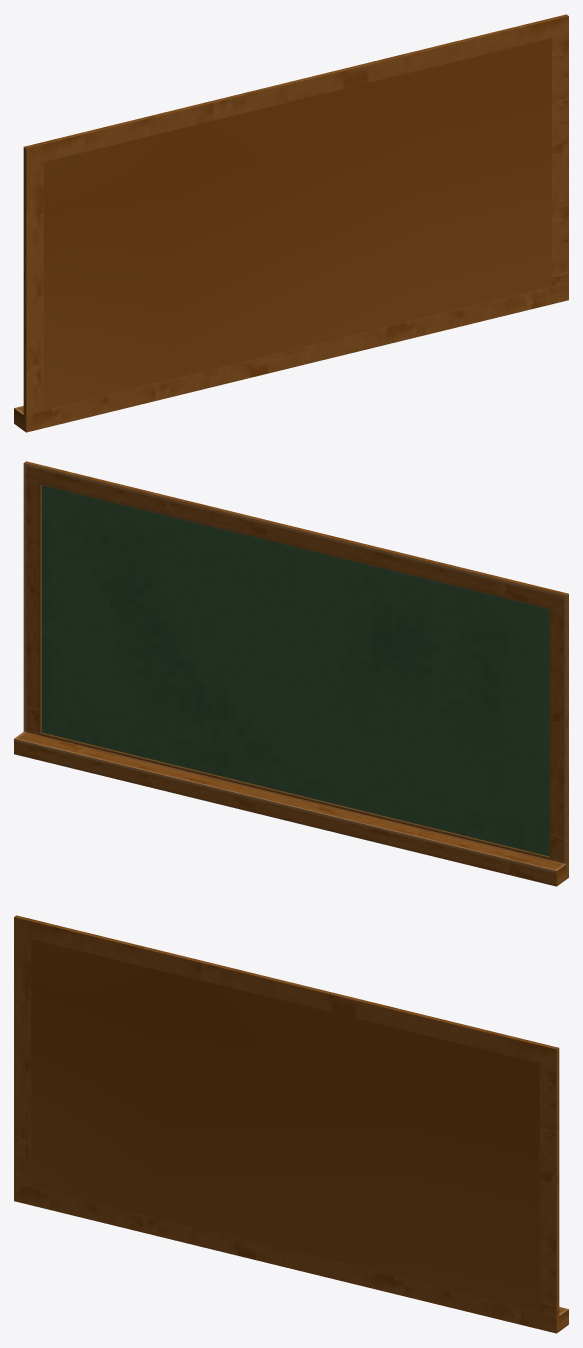
File: blackboard.obj
3 renders of one model, top to bottom at view 1: azimuth 30°, elevation 25°; view 2: azimuth 150°, elevation 25°; view 3: azimuth 330°, elevation 25°, orthographic.
Visible parts, largest first — view 1: board_surface, frame_top, frame_bottom, frame_right, frame_left; view 2: board_surface, bottom_accessory, frame_top, frame_right, frame_left, frame_bottom; view 3: board_surface, frame_top, frame_bottom, frame_left, frame_right.
Part boxes in pixels (bbox=[...]): board_surface: bbox=[43, 38, 551, 410]; frame_top: bbox=[23, 14, 568, 166]; frame_bottom: bbox=[23, 282, 568, 432]; frame_right: bbox=[23, 162, 43, 414]; frame_left: bbox=[552, 34, 568, 286]; board_surface: bbox=[42, 485, 549, 856]; bottom_accessory: bbox=[14, 731, 566, 886]; frame_top: bbox=[23, 461, 568, 613]; frame_right: bbox=[549, 609, 568, 861]; frame_left: bbox=[23, 481, 41, 733]; frame_bottom: bbox=[23, 729, 568, 878]; board_surface: bbox=[31, 939, 539, 1311]; frame_top: bbox=[14, 915, 559, 1067]; frame_bottom: bbox=[14, 1183, 559, 1333]; frame_left: bbox=[539, 1063, 559, 1315]; frame_right: bbox=[14, 935, 30, 1187].
Size of the model in its own units: 4 by 2 by 0.1562.
